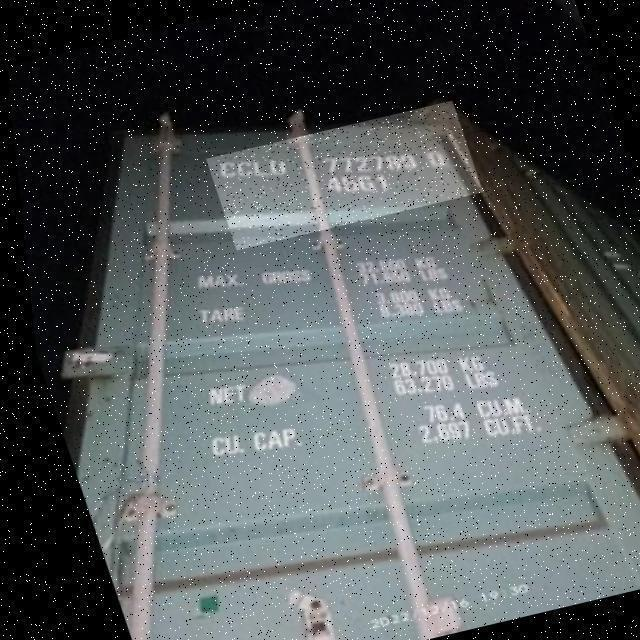ISO: (318, 172, 408, 204)
container_number: (216, 152, 463, 178)
